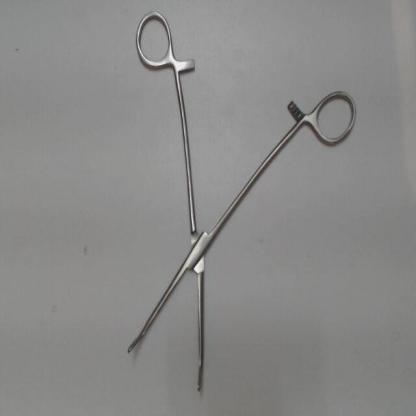Lahey Forceps: (118, 3, 362, 398)
